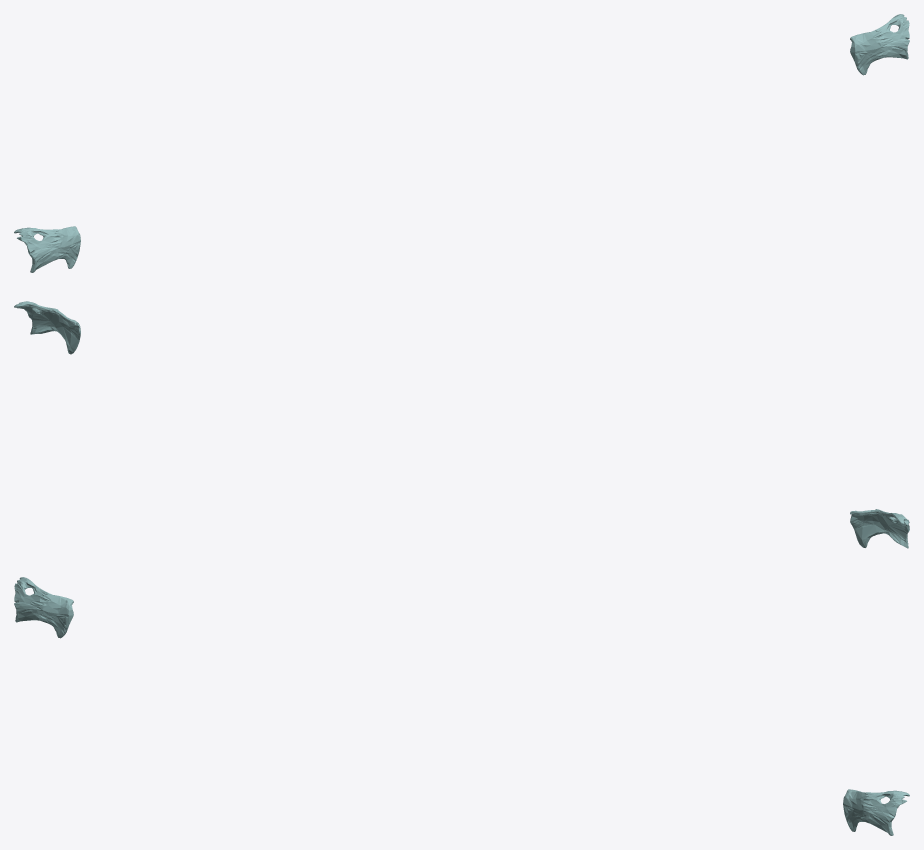
The model's file is curated-muscular-sensory-00.glb.
3 renders of one model, top to bottom at view 1: azimuth 30°, elevation 25°; view 2: azimuth 150°, elevation 25°; view 3: azimuth 330°, elevation 25°, orthographic.
Parts seen in each view (by area): view 1: FJ1471M, FJ1471; view 2: FJ1471, FJ1471M; view 3: FJ1471, FJ1471M.
Part boxes in pixels (x1,y1,x2,y2): FJ1471M: [850, 14, 909, 75]; FJ1471: [14, 226, 80, 272]; FJ1471: [850, 509, 909, 548]; FJ1471M: [14, 301, 80, 354]; FJ1471: [14, 577, 73, 638]; FJ1471M: [843, 789, 909, 835].
Size of the model in its own units: 0.5418 by 0.027 by 0.0139.
